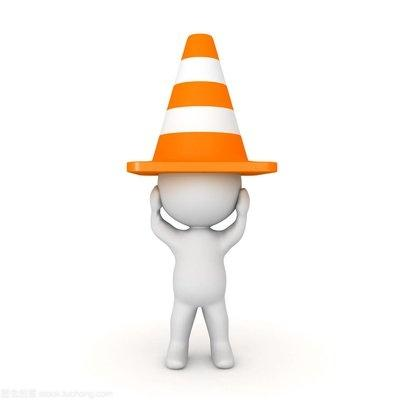cone_barrel: (132, 29, 265, 184)
